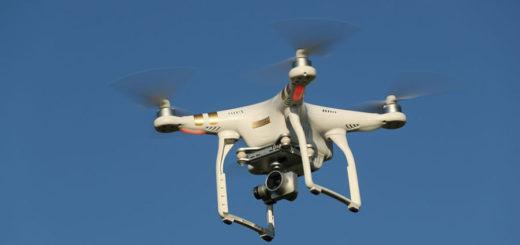drone: (100, 1, 465, 245)
